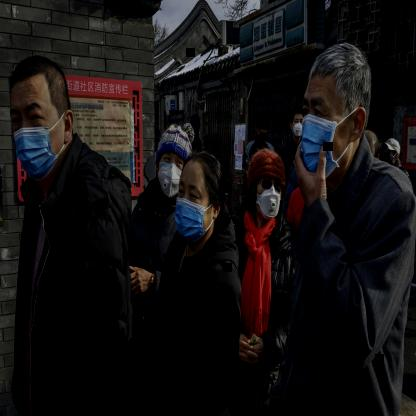mask: (300, 42, 374, 194), (8, 57, 81, 186), (175, 156, 220, 244), (245, 148, 287, 226), (155, 121, 190, 200), (290, 107, 304, 141)
